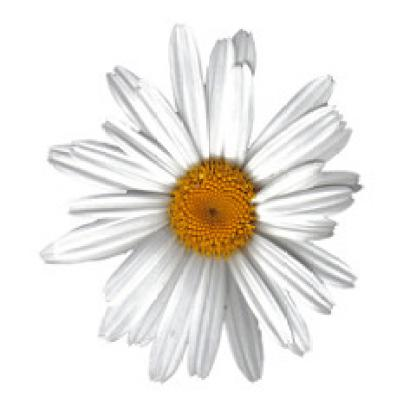ASTER: (22, 3, 382, 395)
